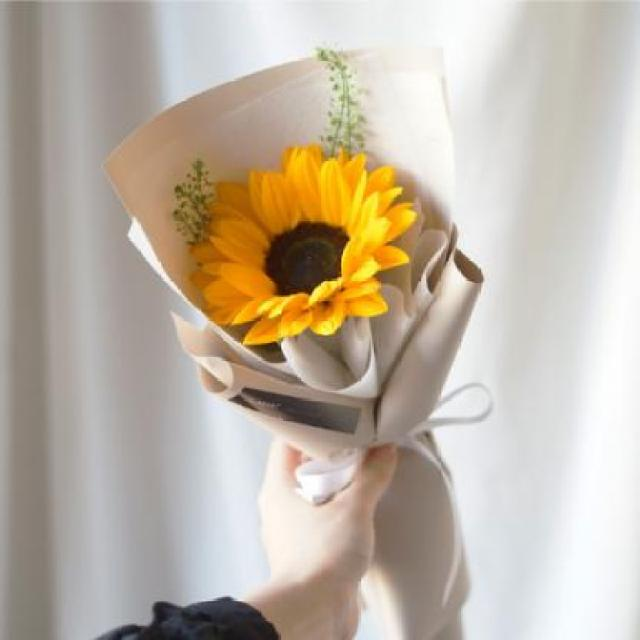sunflower: (178, 131, 420, 335)
